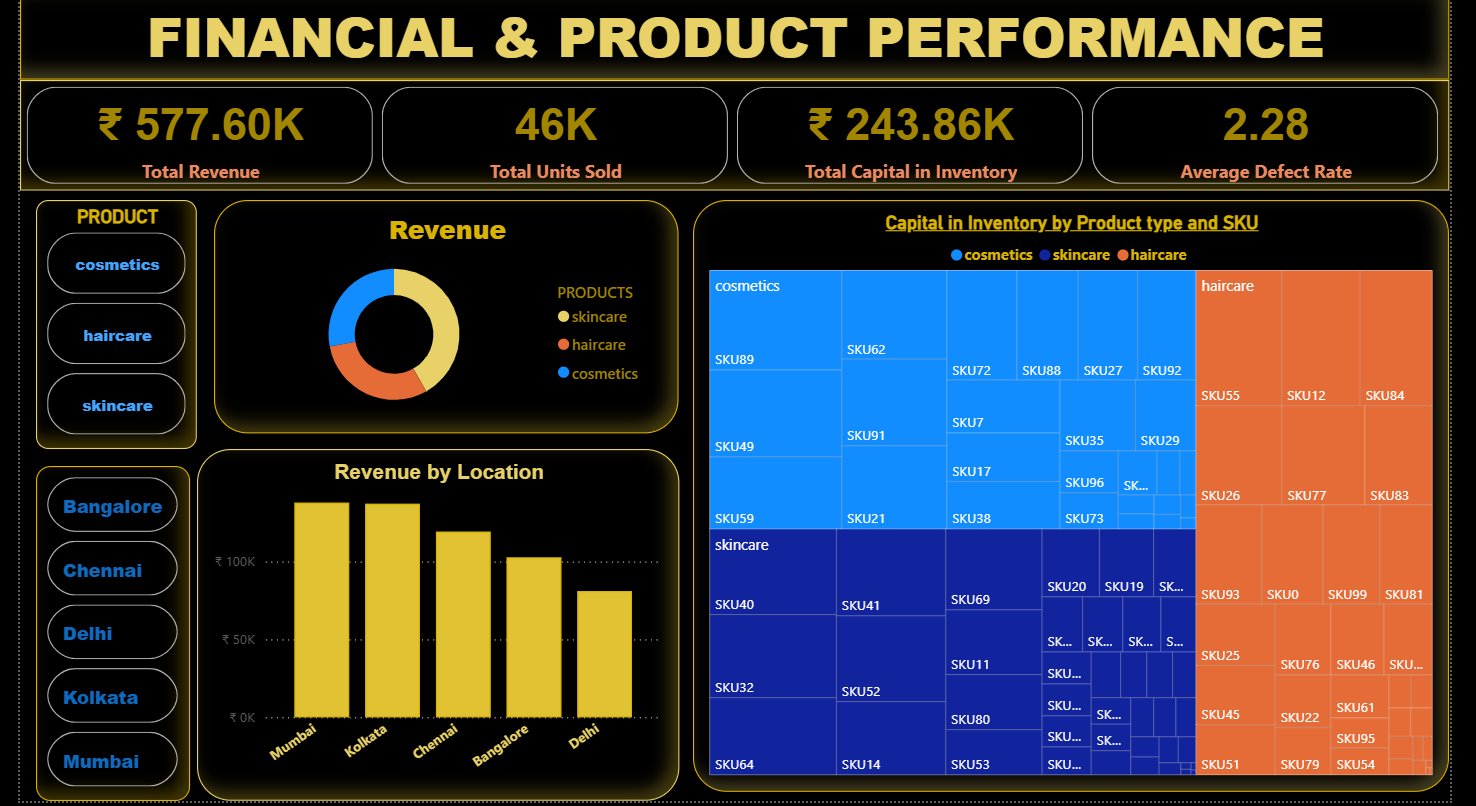

Layout of this report page (visuals, bound fields, positions):
{"tool":"powerbi","page":{"name":"PRODUCT PERFORMANCE","canvas":[1280,720],"ordinal":0},"visuals":[{"type":"cardVisual","fields":{"Data":["MEASURE_.Total Revenue","MEASURE_.Total Units Sold","MEASURE_.Total Capital in Inventory","MEASURE_.Average Defect Rate (%)"]},"box":[0,74.3,1279.7,99.4],"z":0},{"type":"shape","title":"FINANCIAL & PRODUCT PERFORMANCE","box":[0,0,1279.7,74.3],"z":1000},{"type":"donutChart","title":" Revenue ","fields":{"Y":["MEASURE_.Total Revenue"],"Category":["supply_chain_data.Product type"]},"box":[173.7,181.8,416.4,208.7],"z":2000},{"type":"lineClusteredColumnComboChart","title":"Revenue by Location","fields":{"Category":["supply_chain_data.Location"],"Y":["MEASURE_.Total Revenue"]},"box":[158.5,404.8,431.6,315.2],"z":3000},{"type":"treemap","title":" Capital in Inventory by Product type and SKU","fields":{"Values":["MEASURE_.Total Capital in Inventory"],"Group":["supply_chain_data.Product type"],"Details":["supply_chain_data.SKU"]},"box":[602.7,181.8,677,530.1],"z":4000},{"type":"advancedSlicerVisual","title":"PRODUCT","fields":{"Values":["supply_chain_data.Product type"]},"box":[14.3,181.8,144.2,223],"z":5000},{"type":"advancedSlicerVisual","fields":{"Values":["supply_chain_data.Location"]},"box":[14.3,420,137.9,300],"z":6000}]}

Visuals, with their boxes on the page's 1280x720 design canvas (x1, y1, x2, y2). These are canvas units, not pixel positions in the 1476x806 screenshot, which may show the page scaled, cropped or inside an application window:
cardVisual - MEASURE_.Total Revenue x MEASURE_.Total Units Sold: {"x1": 0, "y1": 74, "x2": 1280, "y2": 174}
"FINANCIAL & PRODUCT PERFORMANCE" shape: {"x1": 0, "y1": 0, "x2": 1280, "y2": 74}
" Revenue " donutChart: {"x1": 174, "y1": 182, "x2": 590, "y2": 390}
"Revenue by Location" lineClusteredColumnComboChart: {"x1": 158, "y1": 405, "x2": 590, "y2": 720}
" Capital in Inventory by Product type and SKU" treemap: {"x1": 603, "y1": 182, "x2": 1280, "y2": 712}
"PRODUCT" advancedSlicerVisual: {"x1": 14, "y1": 182, "x2": 158, "y2": 405}
advancedSlicerVisual - supply_chain_data.Location: {"x1": 14, "y1": 420, "x2": 152, "y2": 720}
